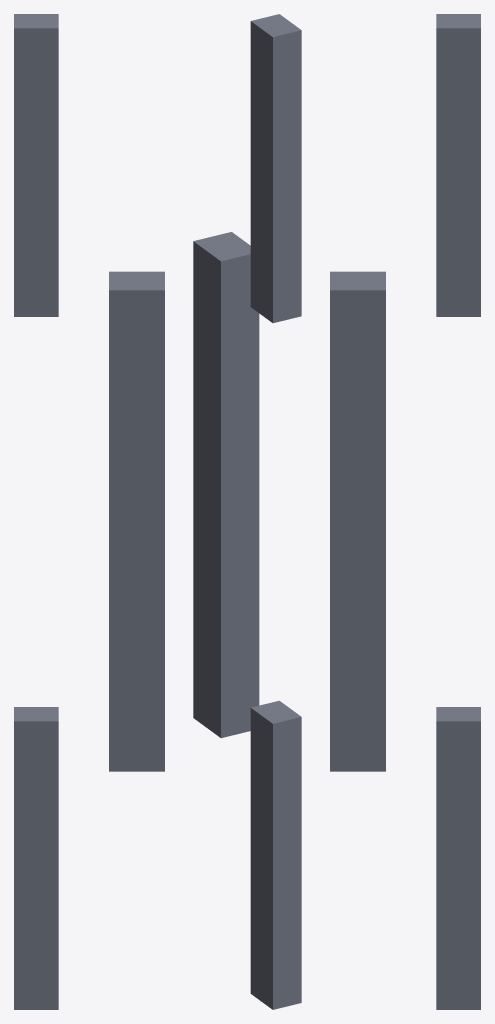
The model's file is shadow_crossbow.glb.
The picture shows the model from 3 angles, left to right: view 1: azimuth 90°, elevation 25°; view 2: azimuth 210°, elevation 25°; view 3: azimuth 270°, elevation 25°; orthographic projection.
Visible parts, largest first — view 1: shadow_crossbow; view 2: shadow_crossbow; view 3: shadow_crossbow.
Part boxes in pixels (left/top/right/bottom): shadow_crossbow: left=14, top=14, right=164, bottom=1009; shadow_crossbow: left=193, top=14, right=301, bottom=1009; shadow_crossbow: left=330, top=14, right=480, bottom=1009.
Bounding box in the file's own units: 0.04 × 0.969 × 0.135.
